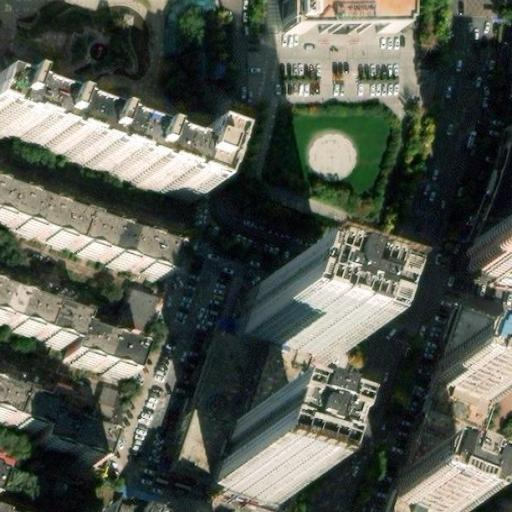building: (0, 92, 188, 190), (0, 188, 175, 284), (167, 338, 265, 500), (0, 269, 144, 360), (0, 384, 108, 468), (232, 298, 337, 382), (399, 400, 484, 503), (201, 436, 286, 512), (470, 158, 512, 257), (439, 323, 508, 382), (427, 363, 496, 418), (177, 139, 222, 200), (460, 253, 512, 296), (389, 484, 460, 512), (111, 485, 167, 512)
